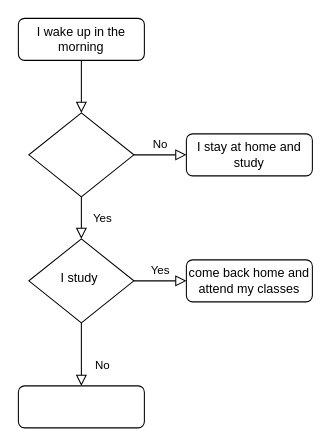
This 331x446 diagram has some shape labels left out. The shapes that lost their labels are listed below. From the top down, each one's centre as x and y in pixels, then its label:
the point at 81,154: I go to school
the point at 80,406: I have fun with my friends
